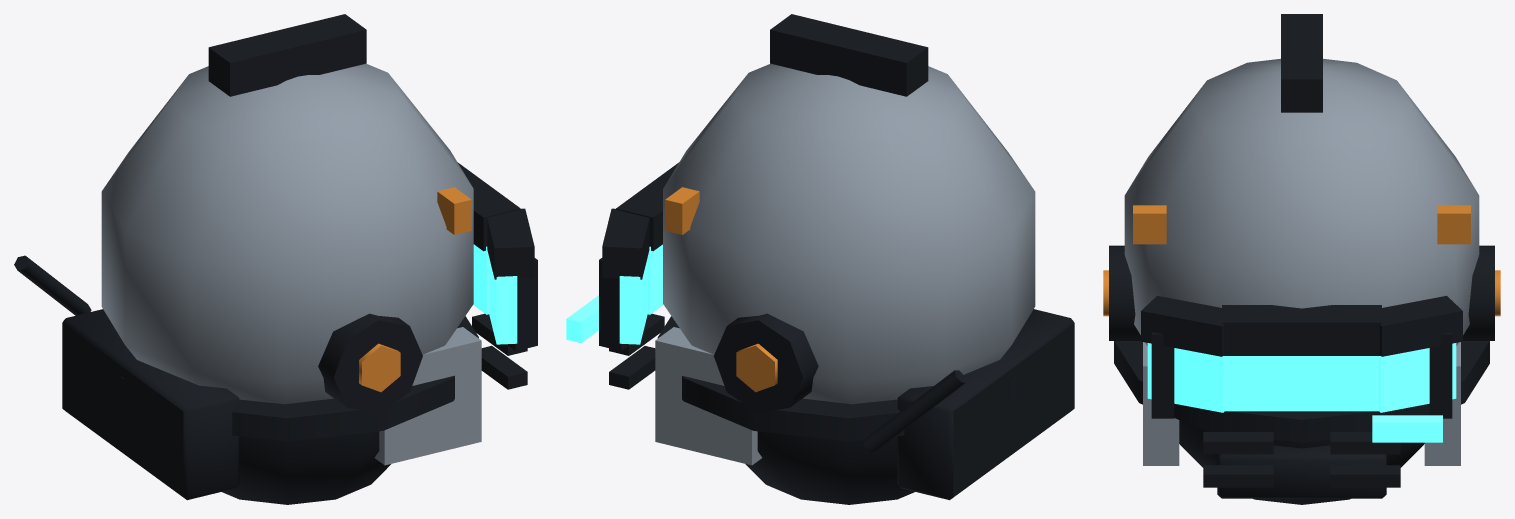
File: casco_pesado.glb
3 renders of one model, left to right at view 1: azimuth 30°, elevation 25°; view 2: azimuth 150°, elevation 25°; view 3: azimuth 270°, elevation 25°, orthographic.
Parts seen in each view (by area): view 1: casco_pesado; view 2: casco_pesado; view 3: casco_pesado.
Boxes of the visible parts, x1,y1,x2,y2 form: casco_pesado: (14,14,537,504); casco_pesado: (566,14,1074,504); casco_pesado: (1103,14,1500,504).
Bounding box in the file's own units: 0.3259 × 0.3466 × 0.282.
